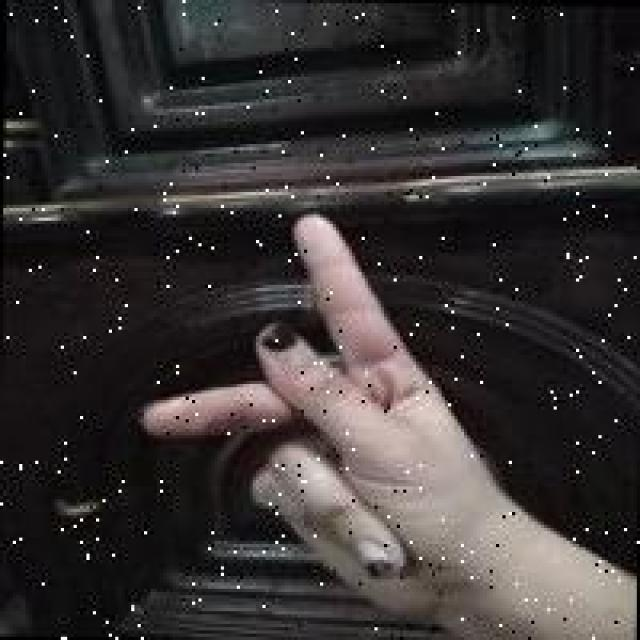K: (130, 205, 504, 627)
